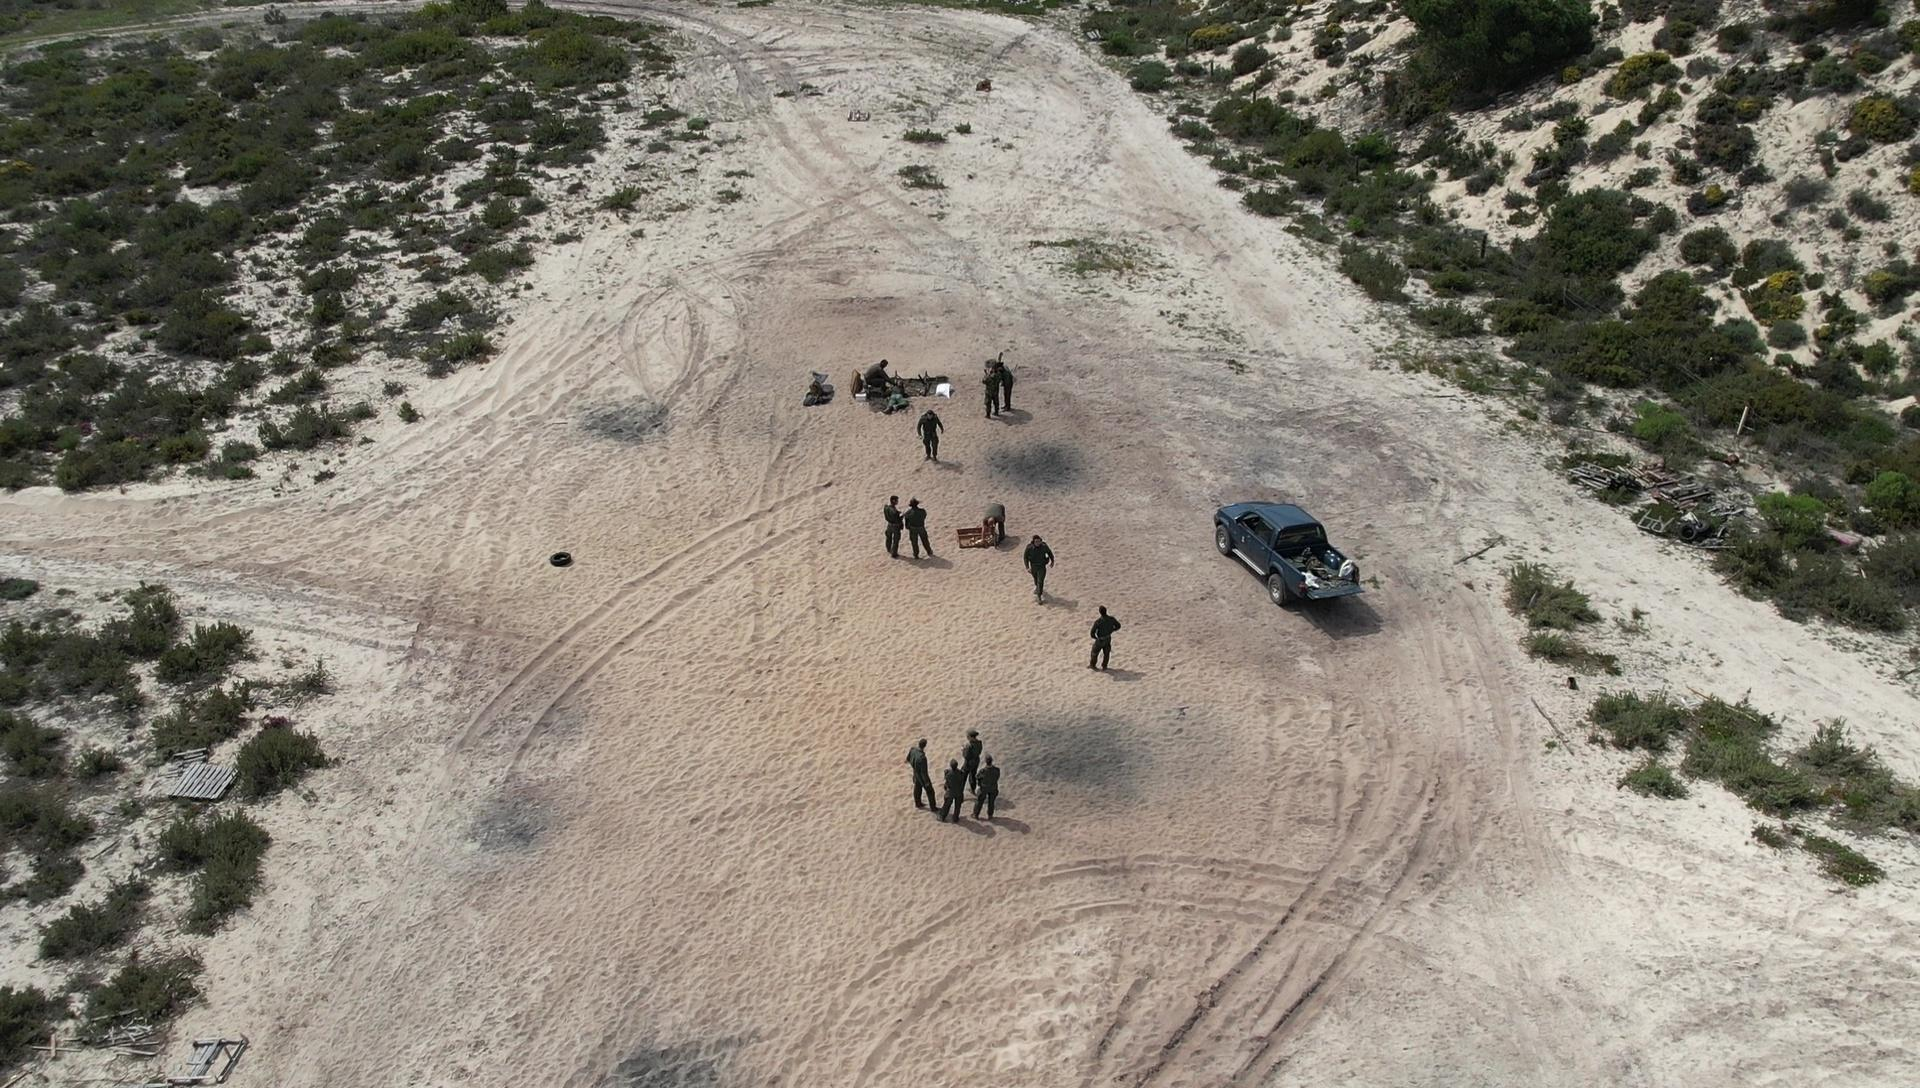Soldier: (905, 735, 949, 826), (909, 400, 953, 469), (1085, 603, 1124, 680), (1021, 528, 1058, 604), (967, 750, 1006, 822), (940, 746, 975, 824), (899, 495, 934, 570), (901, 492, 932, 571), (977, 495, 1014, 560), (978, 356, 1013, 417), (862, 360, 895, 405), (884, 380, 913, 417), (963, 725, 988, 760)
